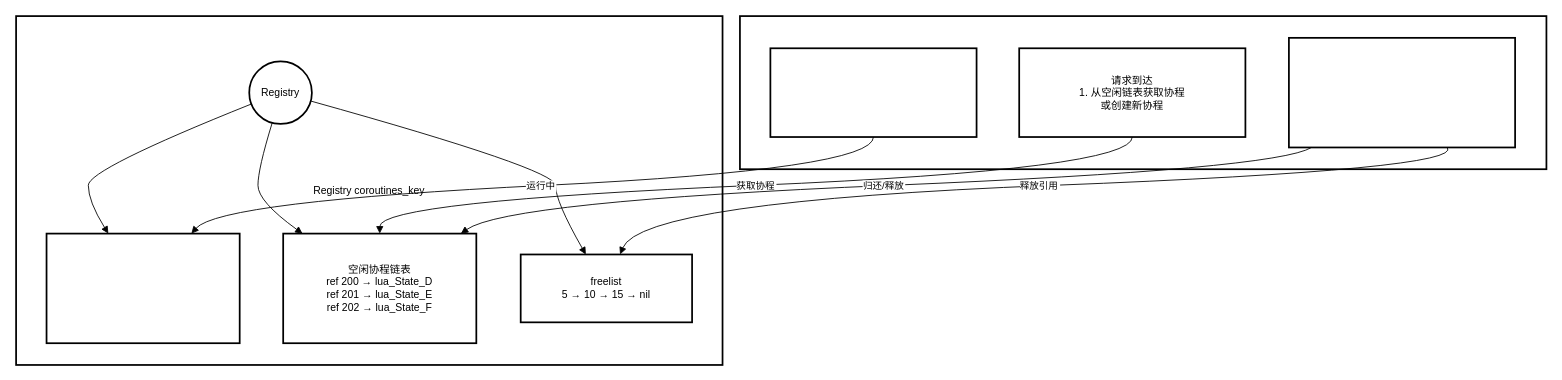
The diagram is 1562 pixels wide and 380 high, and some of its shapes have lost their labels. The shapes that lost their labels are listed below. From the top down, each one's centre as x and y in pixels, then its label:
point (873, 92): 协程处理请求 2. 协程 yield 保存状态 3. 协程 resume 恢复执行
point (1402, 92): 协程执行完毕 4a. 重置协程，加入空闲链表 4b. 空闲链表满，释放协程
point (142, 288): 活跃协程链表 ref 100 → lua_State_A ref 101 → lua_State_B ref 102 → lua_State_C
